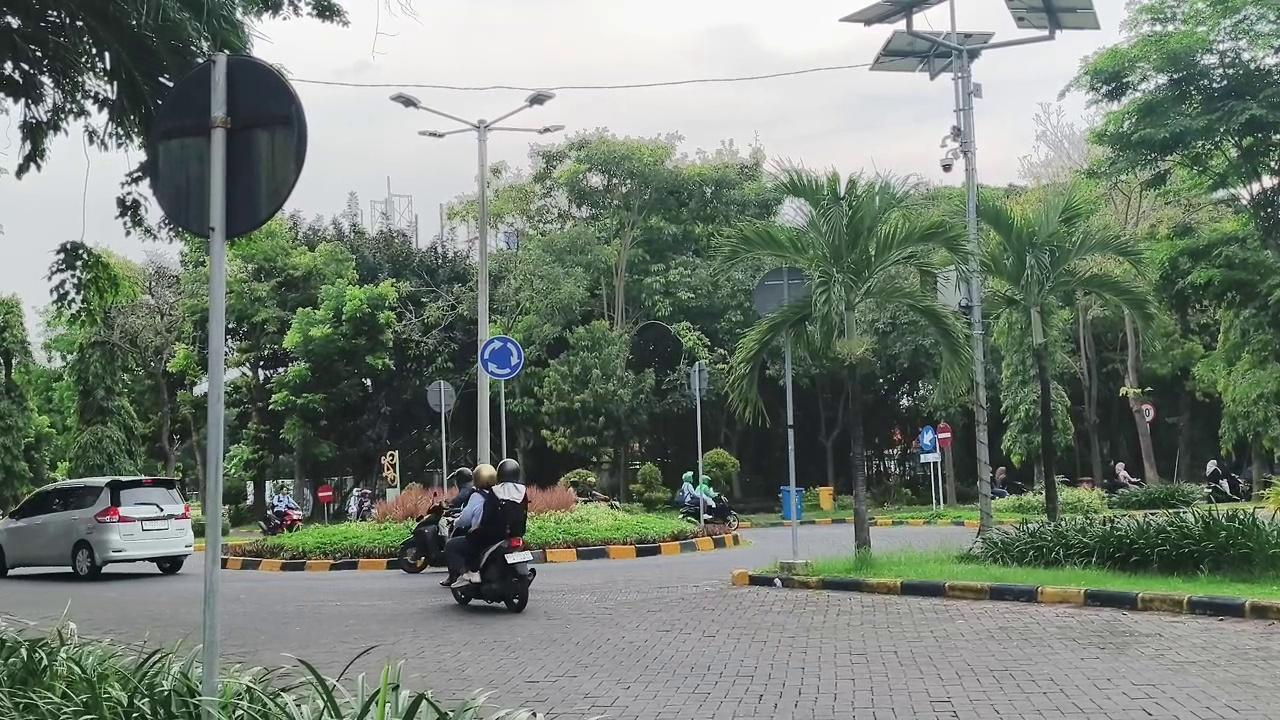Helmet: (446, 458, 527, 586), (441, 463, 495, 585), (270, 483, 300, 522), (449, 467, 474, 508)
Motor: (451, 538, 535, 612), (397, 503, 459, 573), (680, 494, 739, 531), (1204, 474, 1251, 502), (258, 509, 302, 536), (577, 493, 620, 509)
